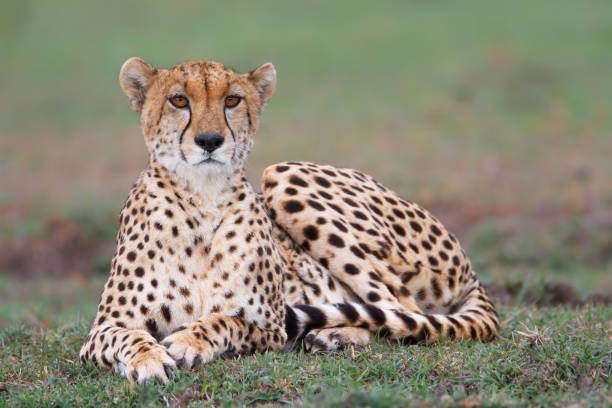cheetah: (97, 44, 293, 190)
